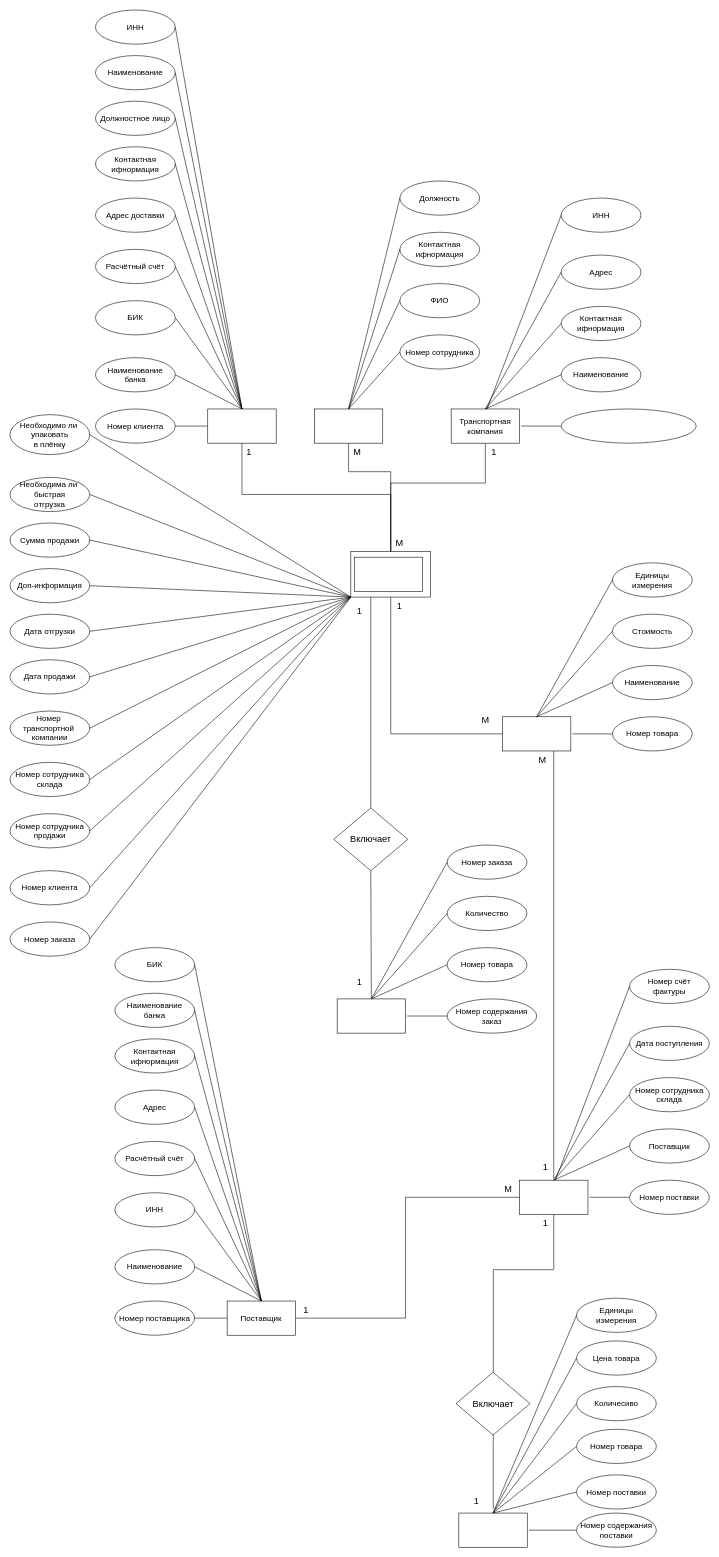
The diagram is 719 pixels wide and 1557 high, and some of its shapes have lost their labels. The centre of each missing label's shape, as x and y in pixels:
Заказ: point 388,574
Клиент: point 241,425
Номер т ранспортной компании: point 628,425
Поставка: point 553,1197
Содержание заказа: point 371,1015
Содержание поставки: point 492,1529
Сотрудник: point 348,425
Товары: point 536,733
